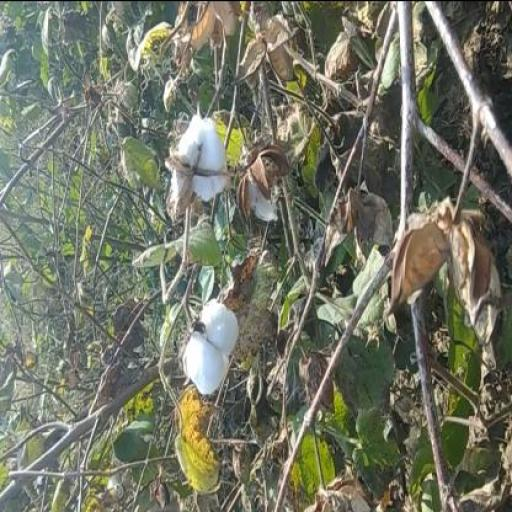cotton_ready: (162, 104, 234, 212), (179, 284, 241, 395)
